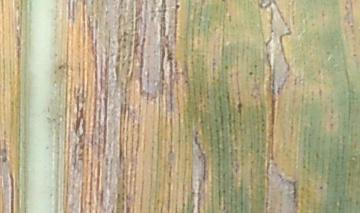tarspot: (165, 53, 174, 61), (57, 64, 65, 71), (317, 183, 325, 190), (329, 120, 334, 129), (175, 4, 183, 9), (224, 63, 229, 70), (248, 70, 253, 76), (237, 102, 241, 108), (122, 31, 126, 36), (219, 1, 230, 2), (43, 145, 46, 148)
